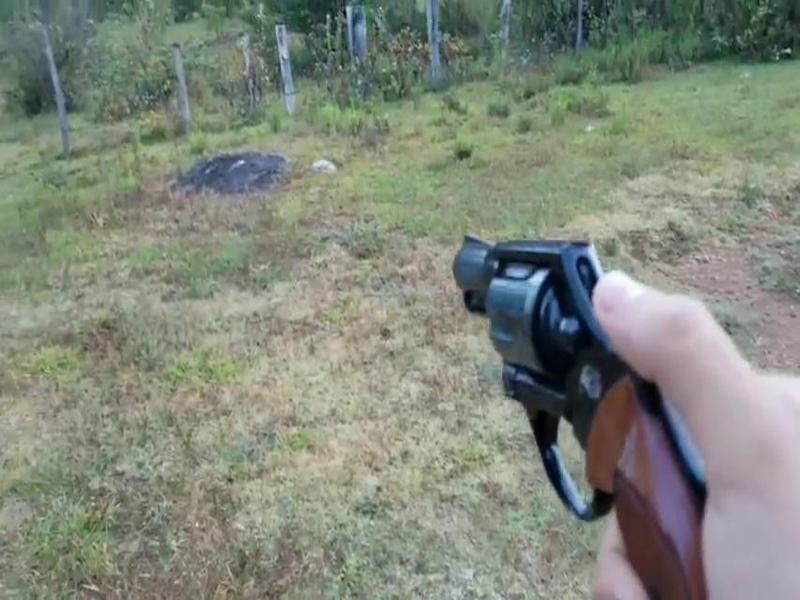Revolver: (439, 221, 703, 557)
